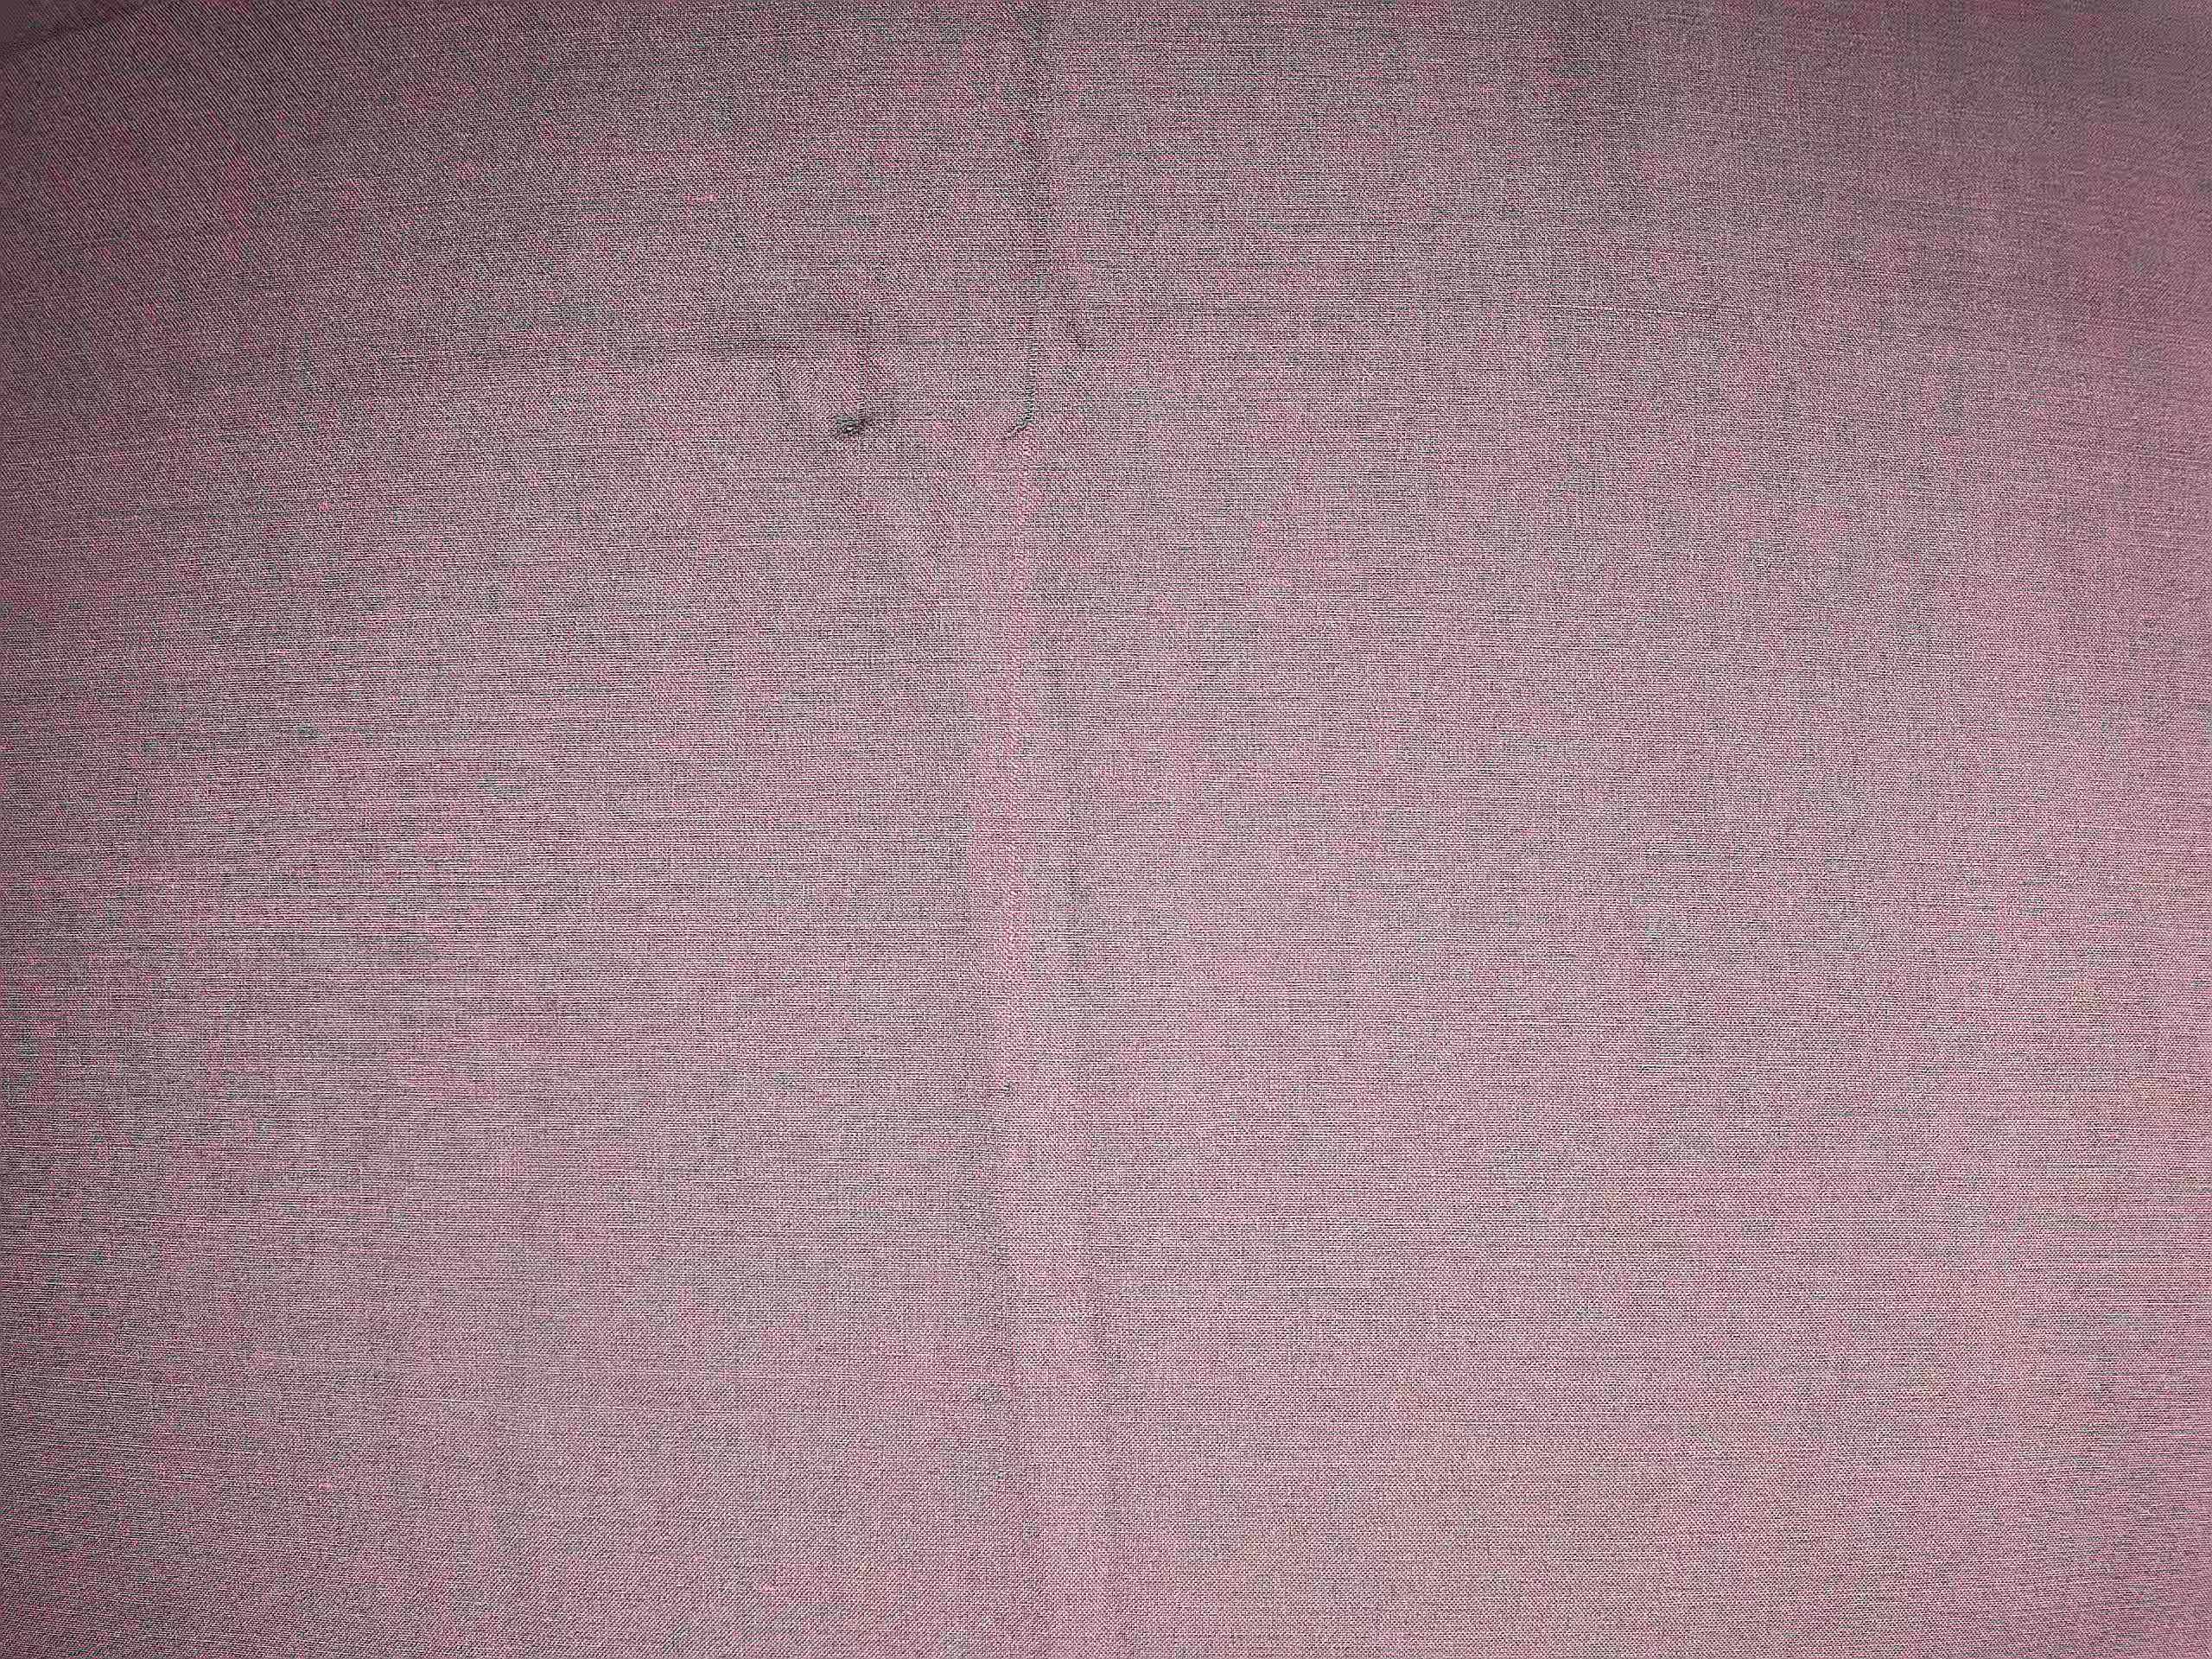lacking-warp: (998, 286, 1064, 504), (806, 336, 902, 460)
